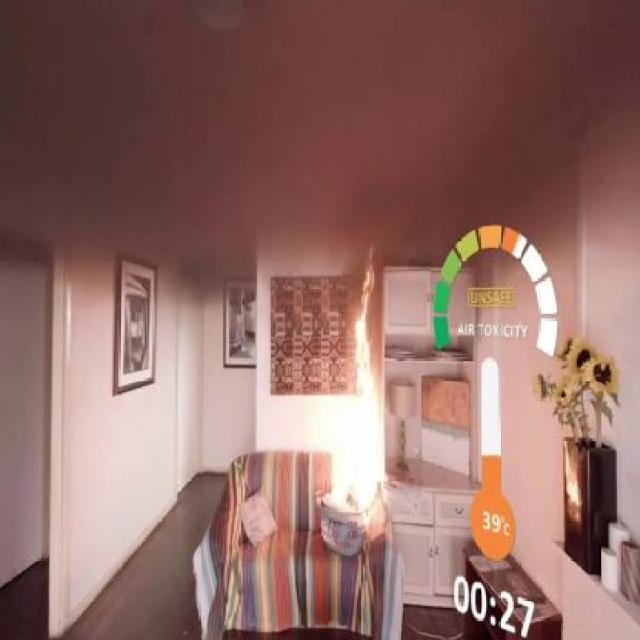fire: (318, 276, 396, 550)
smoke: (106, 32, 579, 210)
